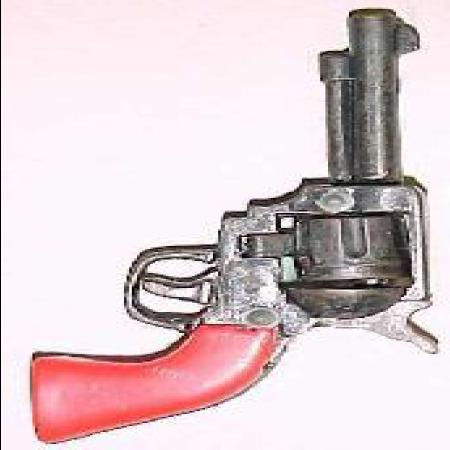Pistol: (28, 11, 442, 447)
